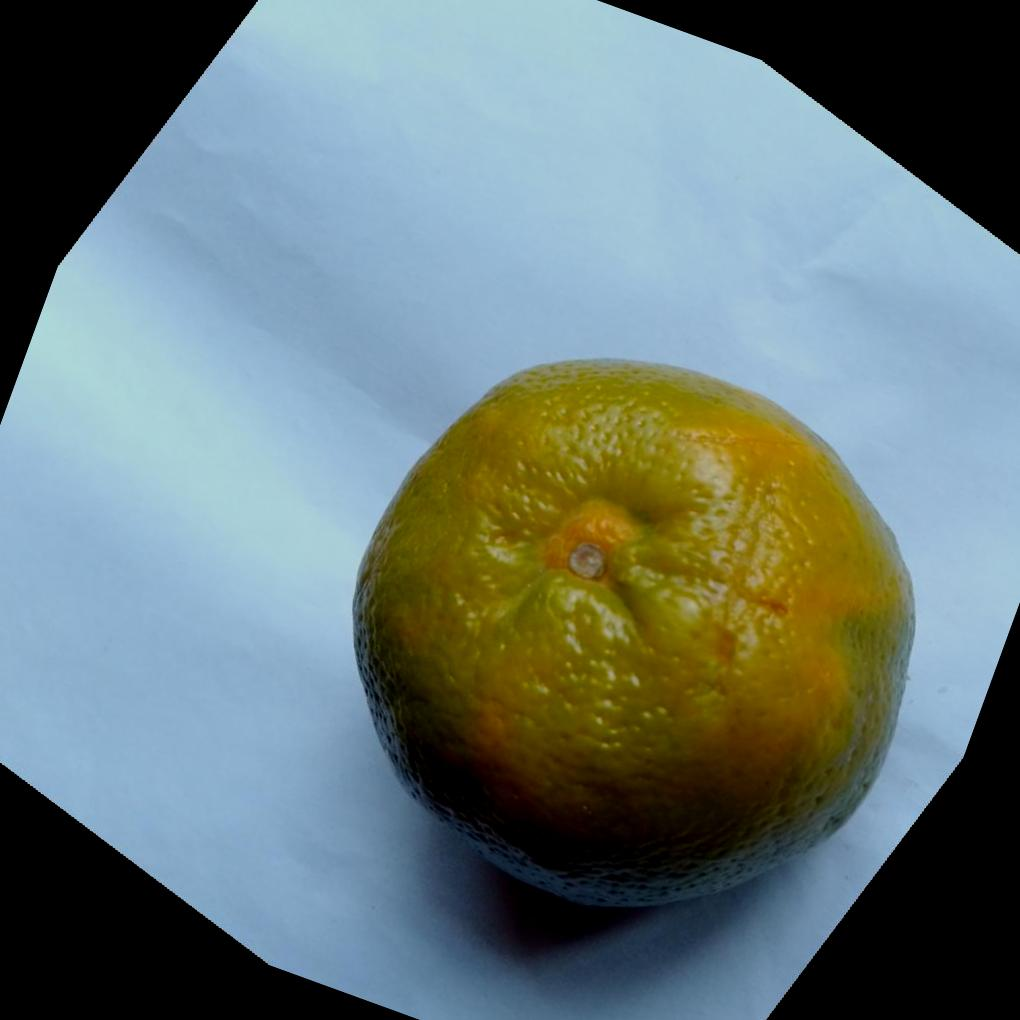FreshGuava: (351, 352, 918, 907)
